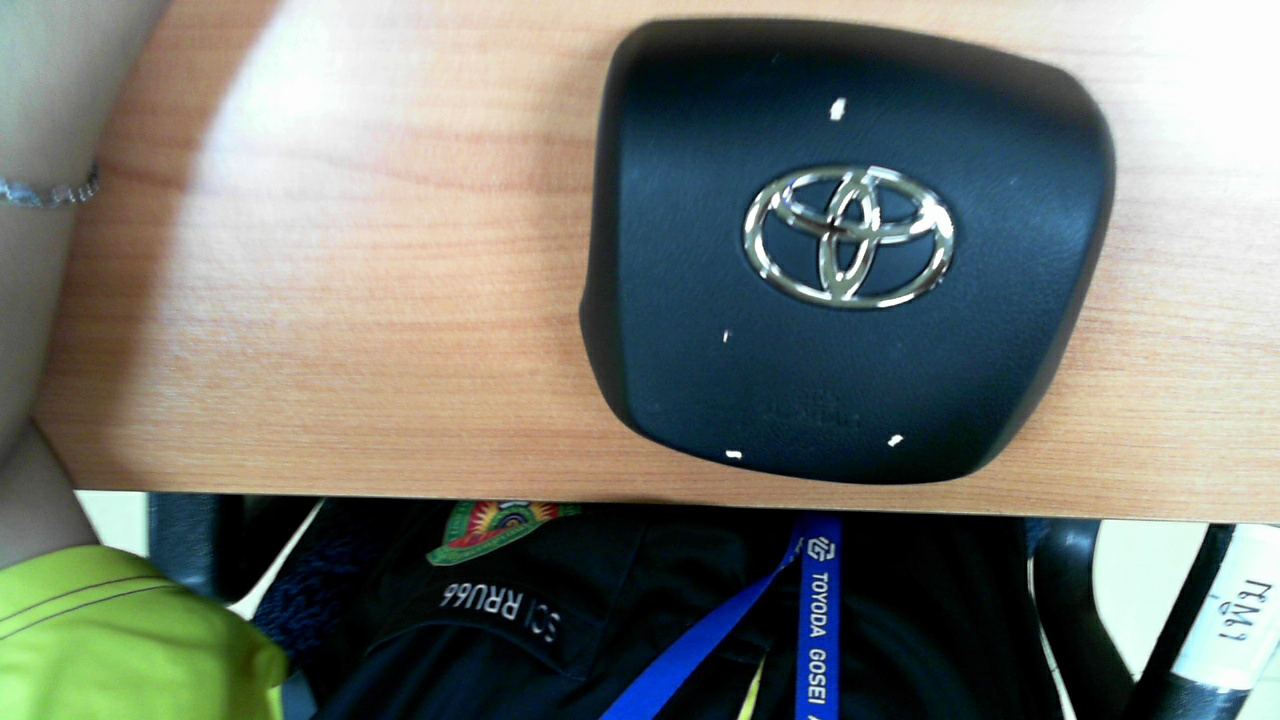Airbag: (578, 17, 1118, 486)
Mark: (829, 97, 846, 121), (888, 434, 902, 447), (726, 450, 742, 460), (723, 329, 728, 343)
